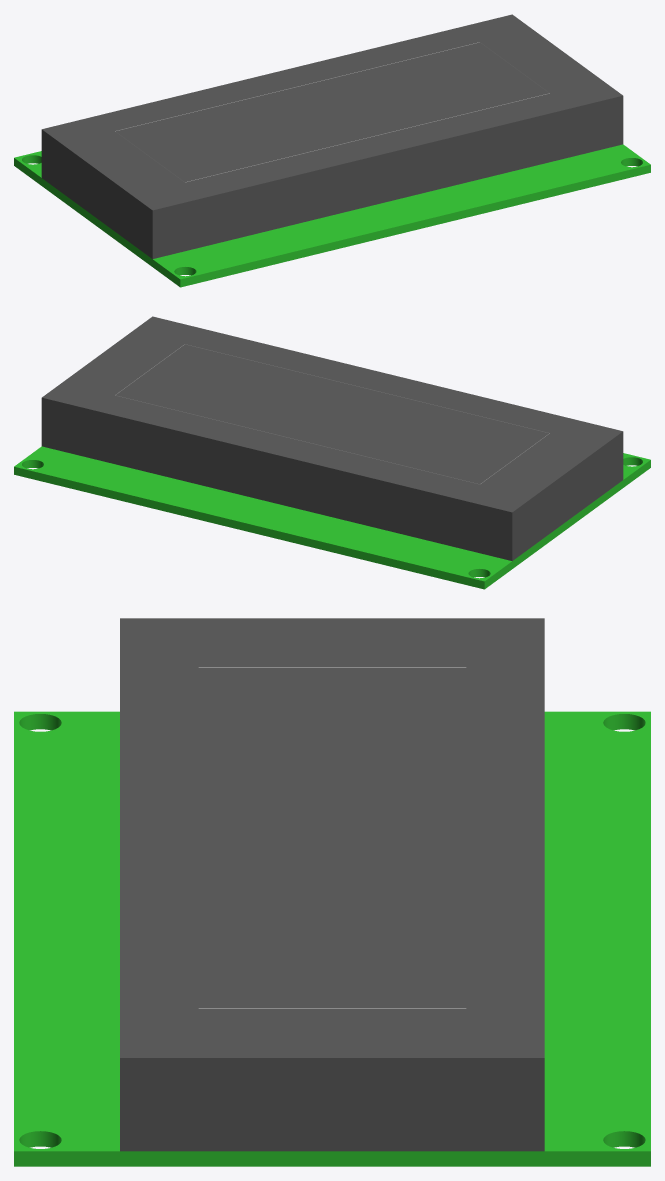
The model's file is Display.fbx.
3 renders of one model, top to bottom at view 1: azimuth 30°, elevation 25°; view 2: azimuth 150°, elevation 25°; view 3: azimuth 270°, elevation 25°, orthographic. The views are drawn at different scales.
Visible parts, largest first — view 1: Group1, Group2, Group3; view 2: Group1, Group2, Group3; view 3: Group1, Group2.
Boxes of the visible parts, x1,y1,x2,y2 form: Group1: [41, 14, 623, 258]; Group2: [14, 144, 650, 287]; Group3: [115, 42, 549, 182]; Group1: [41, 316, 623, 560]; Group2: [14, 446, 650, 589]; Group3: [115, 344, 549, 484]; Group1: [120, 618, 544, 1151]; Group2: [14, 711, 650, 1166].
Size of the model in its own units: 98 by 11.35 by 60.
